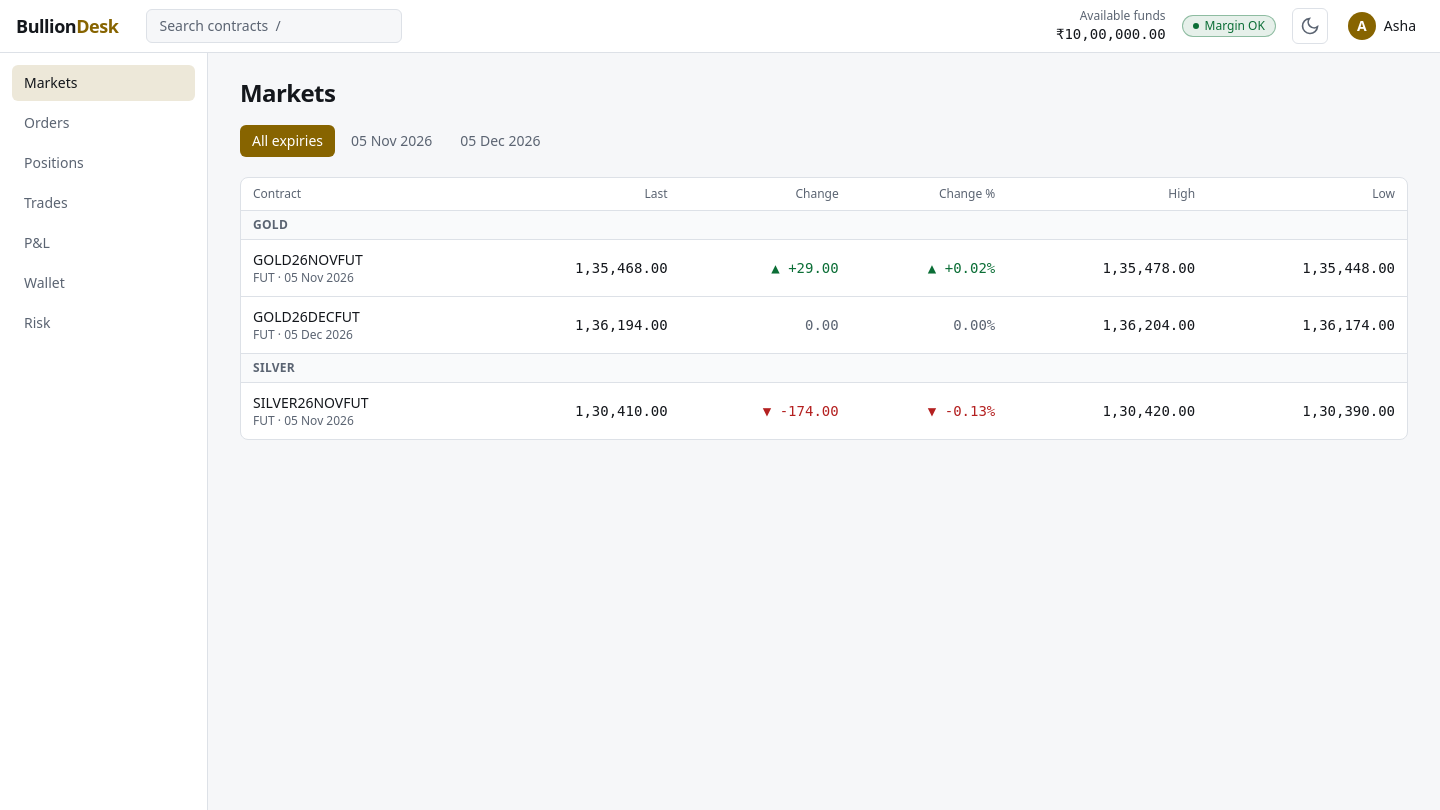
Test: markets page › filters by expiry tab and keeps the choice in the URL
This screenshot has width=1440, height=810.
Click the tab "05 Dec 2026": (500, 141) [448,125,552,157]
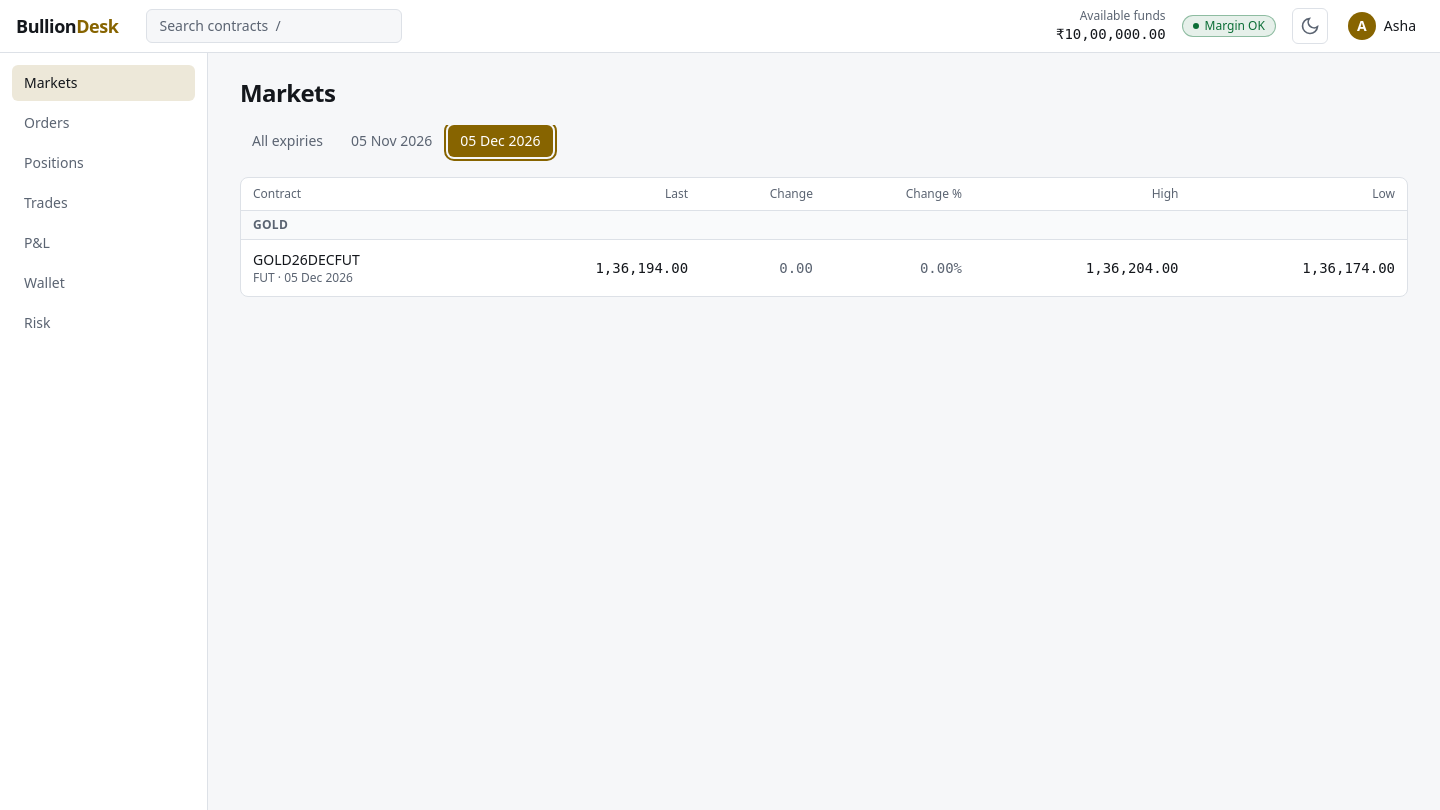
expect the link "GOLD26DECFUT" is shown: met, box [253,250,360,269]
expect the link "GOLD26NOVFUT" is gone: met
expect the column heading "SILVER" is gone: met
